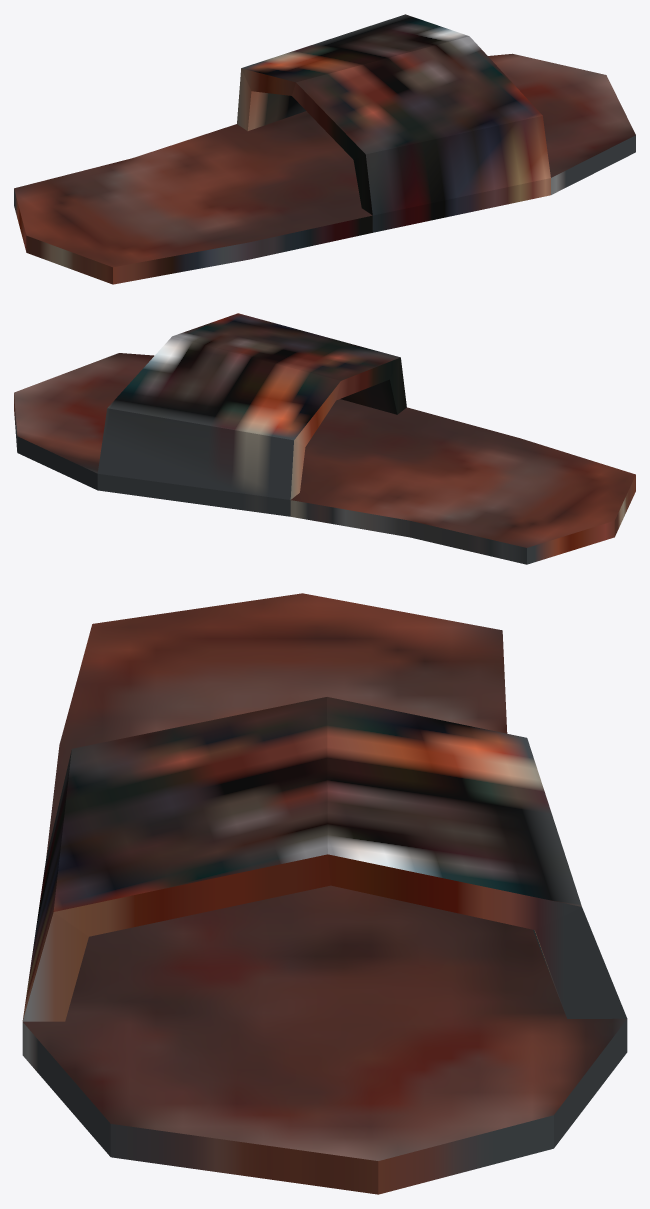
The model's file is soup-sandal.glb.
3 views of the same model, one above another, from view 1: azimuth 30°, elevation 25°; view 2: azimuth 150°, elevation 25°; view 3: azimuth 270°, elevation 25° (orthographic). The views are drawn at different scales.
Visible parts, largest first — view 1: soup-sandal; view 2: soup-sandal; view 3: soup-sandal.
Part boxes in pixels (x1,y1,x2,y2): soup-sandal: (14,14,635,284); soup-sandal: (14,313,635,564); soup-sandal: (22,593,627,1194).
Size of the model in its own units: 0.5713 by 0.093 by 0.2572.
Materials: 1 (1 with a texture image).
